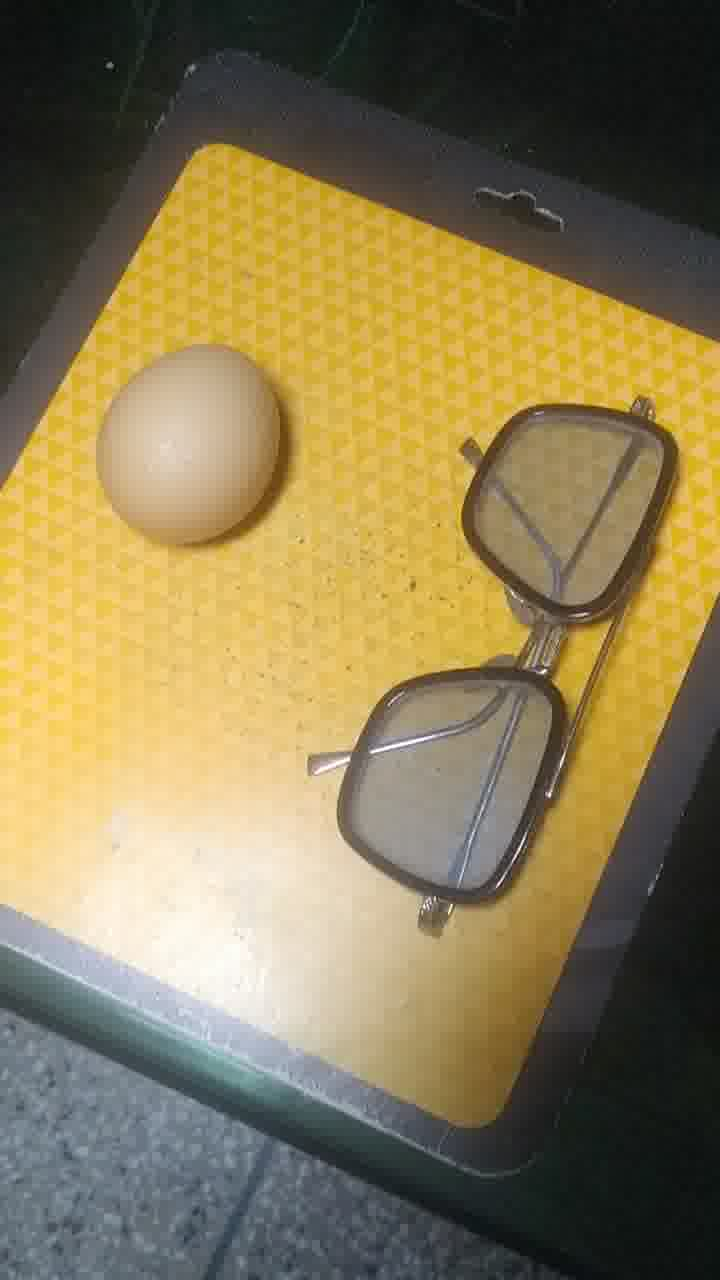egg: (88, 338, 291, 556)
sunglass: (300, 396, 691, 944)
